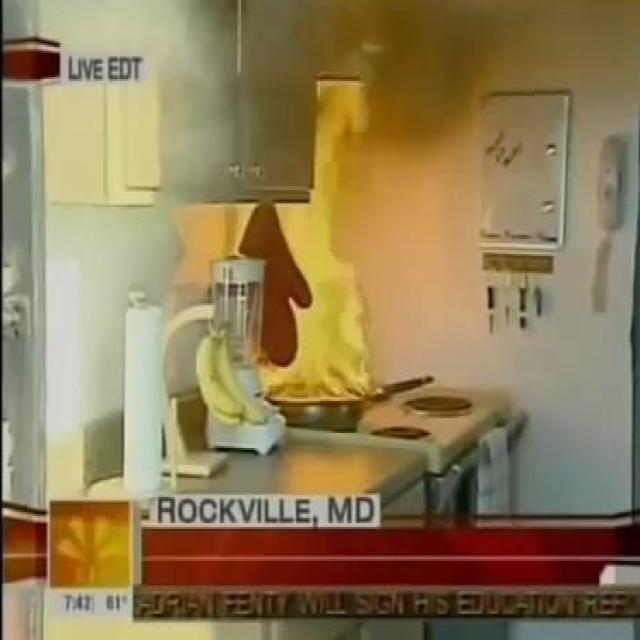fire: (2, 0, 312, 151), (369, 0, 484, 145)
smoke: (255, 78, 372, 408)
